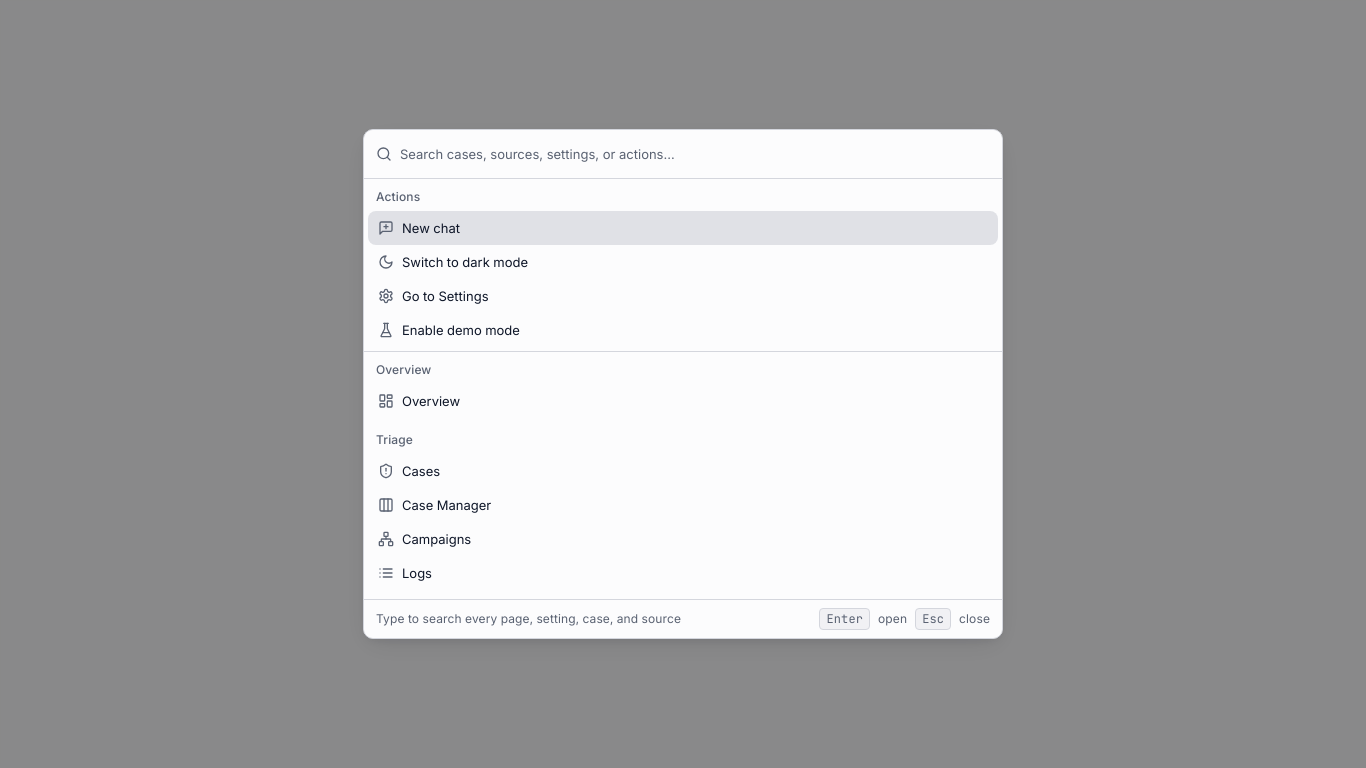
Scenario: CommandPalette (W7c) › queries GET /api/search and renders the returned case + source hits
Type "brute" into the dropdown with placeholder "Search cases, sources, settings, or actions…" at (695, 154), box [400,130,990,178]
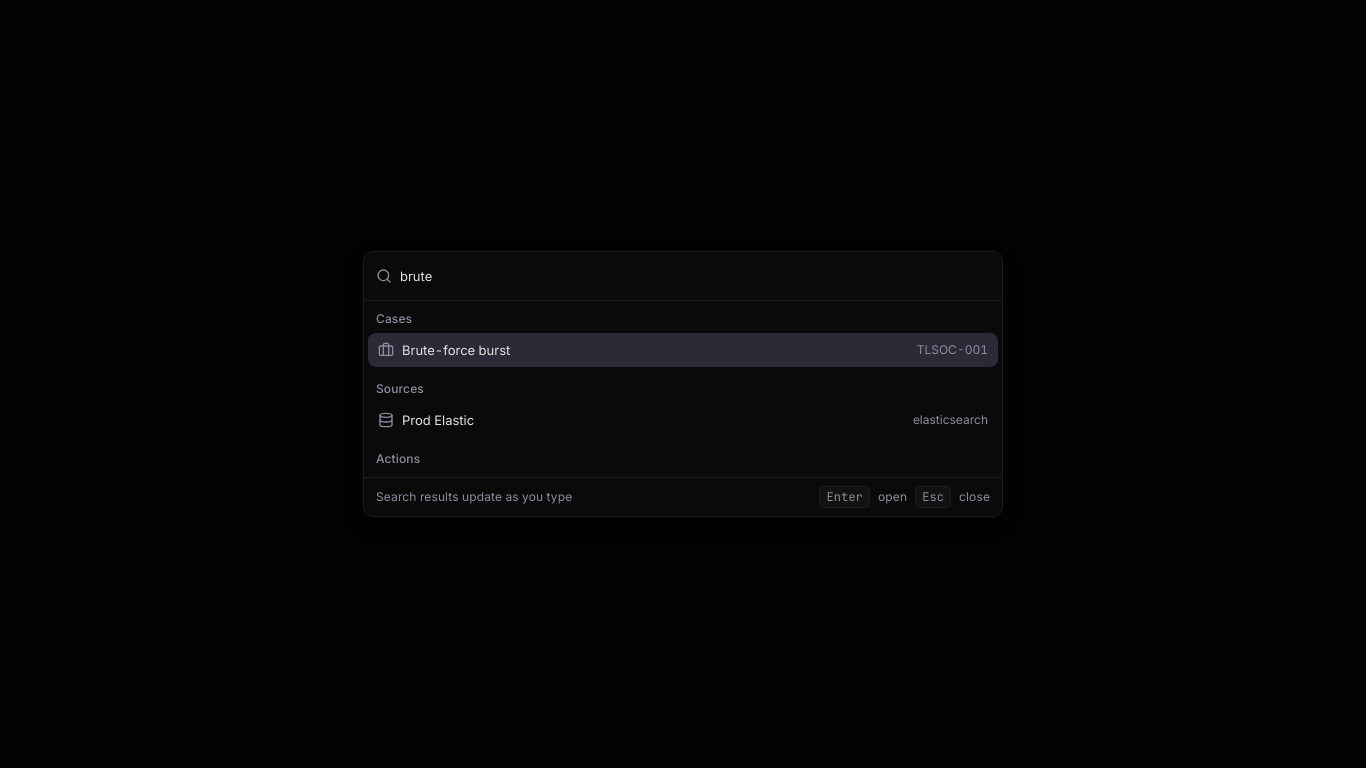
Result: the text "Brute-force burst" is shown at [402,341,510,359]
Result: the text "Prod Elastic" is shown at [402,411,474,429]
